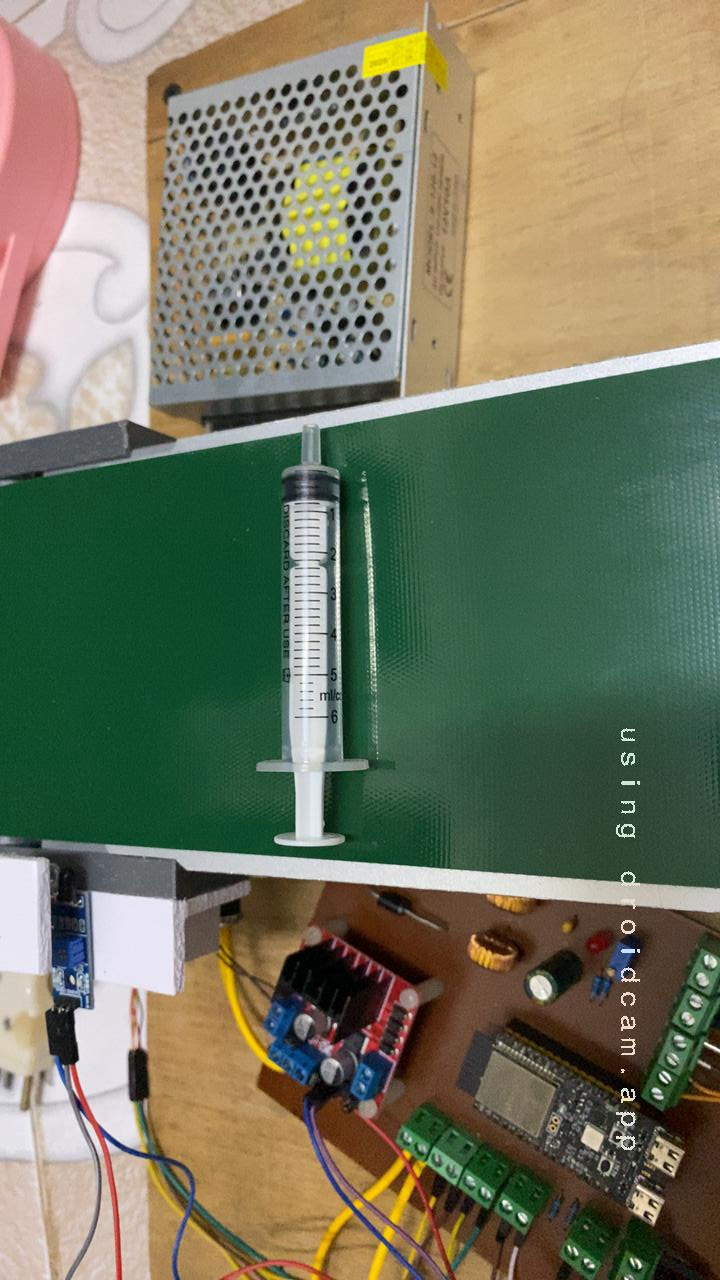syringe: (227, 449, 397, 876)
